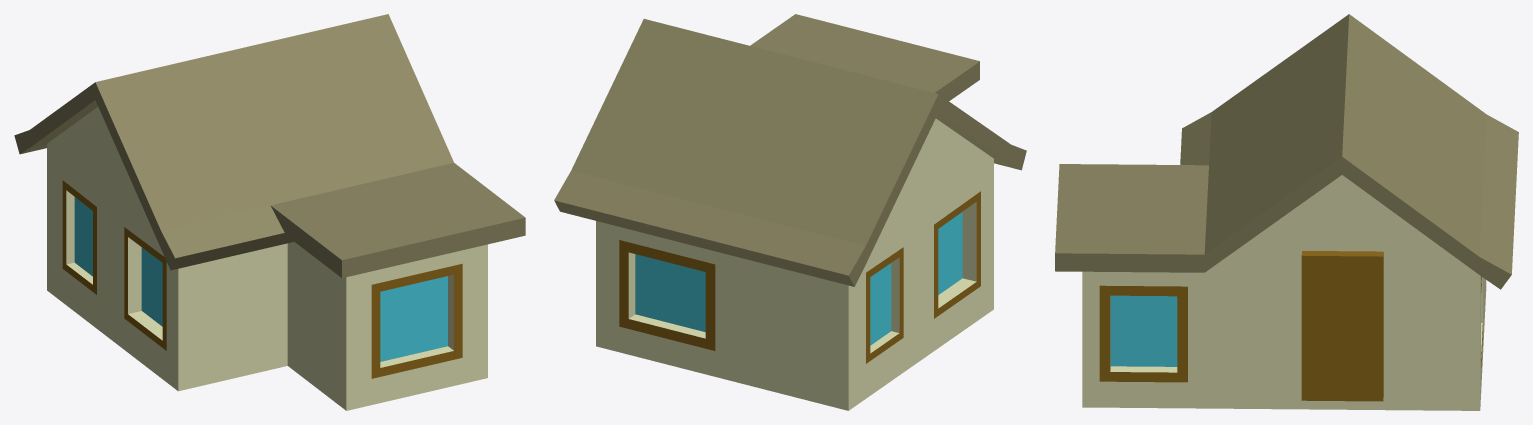
Rendered from house.fbx.
3 renders of one model, left to right at view 1: azimuth 30°, elevation 25°; view 2: azimuth 150°, elevation 25°; view 3: azimuth 270°, elevation 25°, orthographic. The views are drawn at different scales.
Visible parts, largest first — view 1: Дом; view 2: Дом; view 3: Дом.
Boxes of the visible parts, left/top/right/bottom form: Дом: left=14, top=14, right=525, bottom=410; Дом: left=554, top=14, right=1026, bottom=410; Дом: left=1055, top=14, right=1518, bottom=410.
Size of the model in its own units: 942 by 800 by 1268.
